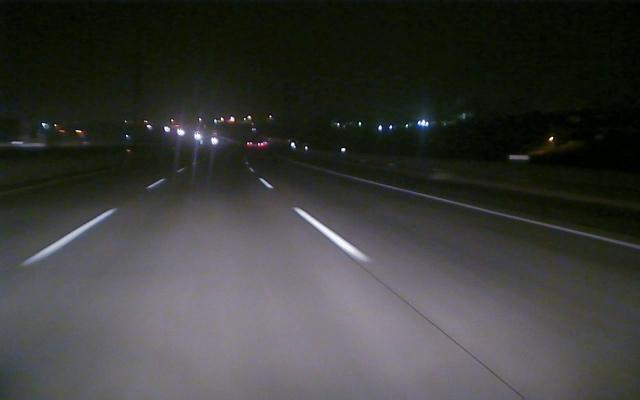lane: (335, 173, 637, 250), (6, 181, 162, 275), (258, 179, 374, 262)
